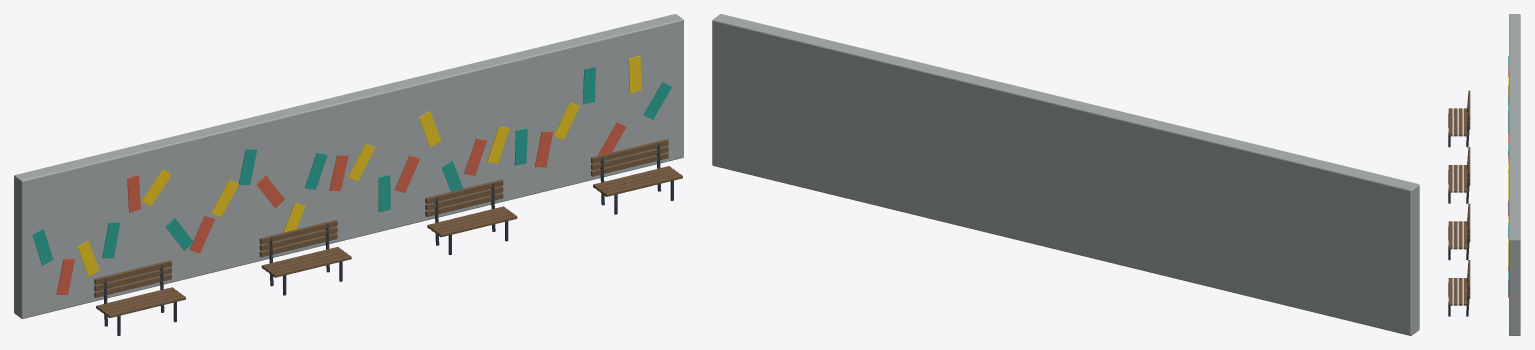
The model's file is graffiti-wall.glb.
3 renders of one model, left to right at view 1: azimuth 30°, elevation 25°; view 2: azimuth 150°, elevation 25°; view 3: azimuth 270°, elevation 25°, orthographic. The views are drawn at different scales.
Visible parts, largest first — view 1: DC_Mesh_DC_Concrete, DC_Mesh_DC_Wood, DC_Mesh_DC_Teal, DC_Mesh_DC_Coral, DC_Mesh_DC_Yellow, DC_Mesh_DC_Steel; view 2: DC_Mesh_DC_Concrete; view 3: DC_Mesh_DC_Concrete, DC_Mesh_DC_Wood, DC_Mesh_DC_Steel, DC_Mesh_DC_Teal, DC_Mesh_DC_Yellow.
Boxes of the visible parts, x1,y1,x2,y2 form: DC_Mesh_DC_Concrete: [14, 14, 683, 318]; DC_Mesh_DC_Wood: [94, 139, 682, 317]; DC_Mesh_DC_Teal: [32, 66, 671, 265]; DC_Mesh_DC_Coral: [56, 122, 626, 294]; DC_Mesh_DC_Yellow: [77, 56, 641, 276]; DC_Mesh_DC_Steel: [103, 143, 673, 335]; DC_Mesh_DC_Concrete: [712, 14, 1419, 335]; DC_Mesh_DC_Concrete: [1509, 14, 1520, 335]; DC_Mesh_DC_Wood: [1448, 90, 1470, 305]; DC_Mesh_DC_Steel: [1448, 94, 1469, 316]; DC_Mesh_DC_Teal: [1508, 56, 1508, 293]; DC_Mesh_DC_Yellow: [1508, 77, 1508, 266].
Bounding box in the file's own units: 16 × 3.2 × 2.16.
